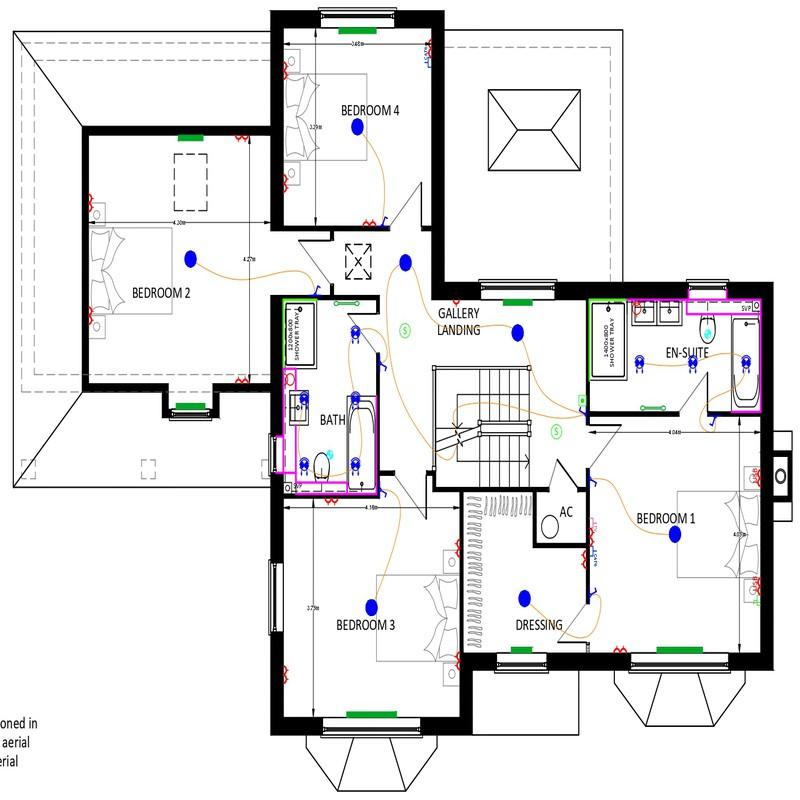Cat 6 Data Socket: (423, 46, 431, 67), (590, 546, 598, 566)
Ceiling Mounted Continuous Extract FanWith Boost Mode Activated By Light Switch: (326, 450, 333, 459), (704, 329, 711, 338)
Co-Ax TV Socket: (590, 518, 597, 532)
D: (283, 666, 290, 685)
Double Socket: (589, 528, 596, 547), (424, 38, 431, 57), (453, 652, 460, 670), (453, 539, 460, 557), (283, 61, 289, 80), (283, 174, 289, 193), (325, 498, 339, 506), (362, 218, 376, 226), (613, 645, 627, 653), (235, 135, 249, 143), (88, 306, 94, 324), (235, 375, 248, 383), (89, 193, 94, 212), (581, 550, 586, 569)
Full Height Tiling: (589, 298, 627, 380), (282, 298, 317, 368)
Light Switch: (379, 216, 389, 226), (709, 416, 718, 426), (590, 476, 598, 487), (312, 285, 321, 294), (589, 587, 598, 596), (380, 488, 388, 498), (578, 406, 586, 415), (380, 362, 387, 371)
Low Energy Downlighter: (350, 457, 361, 476), (634, 354, 645, 373), (350, 325, 360, 345), (687, 355, 698, 373), (350, 391, 360, 410), (299, 457, 309, 476), (741, 355, 751, 373), (300, 391, 309, 410)
Low Energy Pendant Light: (351, 118, 364, 136), (184, 250, 197, 268), (399, 254, 412, 272), (511, 324, 524, 342), (518, 590, 531, 607), (365, 599, 378, 616), (669, 525, 681, 543)
Mains Wired Smoke Detector: (399, 323, 411, 338), (550, 424, 562, 439)
Programmable Room Thermostat: (578, 395, 586, 406)
Radiator: (657, 647, 703, 654), (346, 712, 397, 718), (338, 27, 377, 34), (503, 299, 533, 306), (176, 403, 205, 410), (178, 135, 203, 141), (511, 647, 532, 653)
Shaver Socket: (630, 299, 642, 318), (283, 373, 298, 386)
Single Socket: (453, 300, 460, 307)
Telephone Socket: (752, 595, 760, 606)
USB Double Socket: (751, 467, 761, 488), (751, 576, 761, 594)
